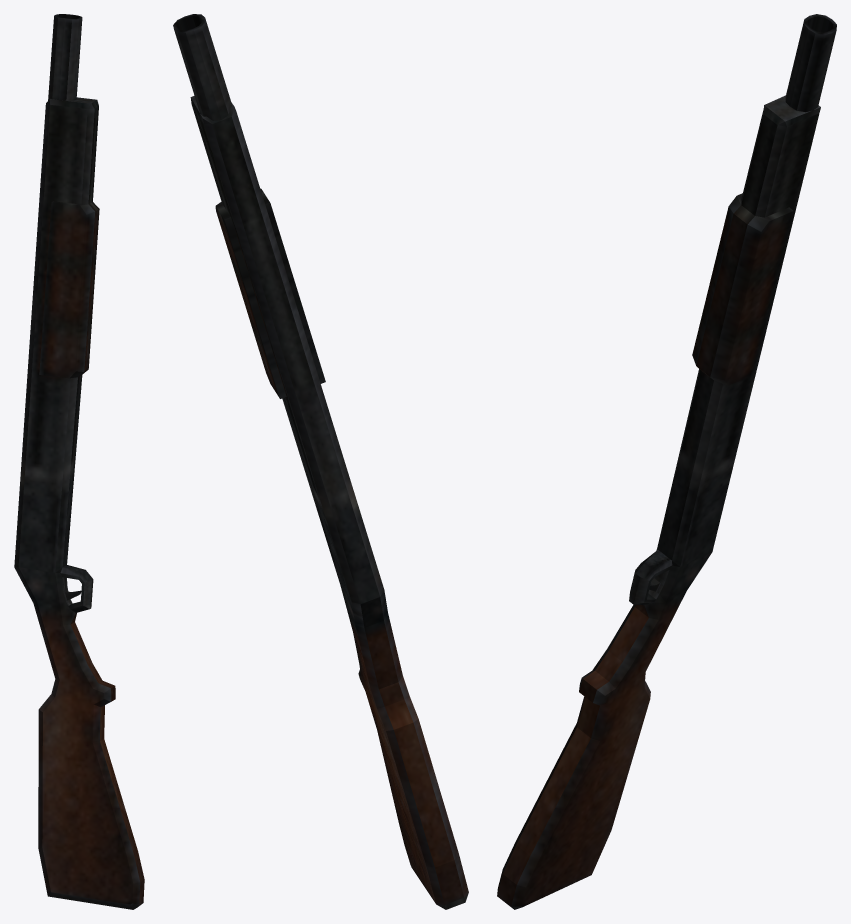
3 views of the same model, side by side, from view 1: azimuth 30°, elevation 25°; view 2: azimuth 150°, elevation 25°; view 3: azimuth 270°, elevation 25° (orthographic). The views are drawn at different scales.
Visible parts, largest first — view 1: shotgun_1; view 2: shotgun_1; view 3: shotgun_1.
Part boxes in pixels (bbox=[...]): shotgun_1: bbox=[14, 14, 144, 909]; shotgun_1: bbox=[173, 14, 468, 909]; shotgun_1: bbox=[497, 14, 836, 909].
Size of the model in its own units: 0.2578 by 1.39 by 0.4642.
1 material, 1 textured.
